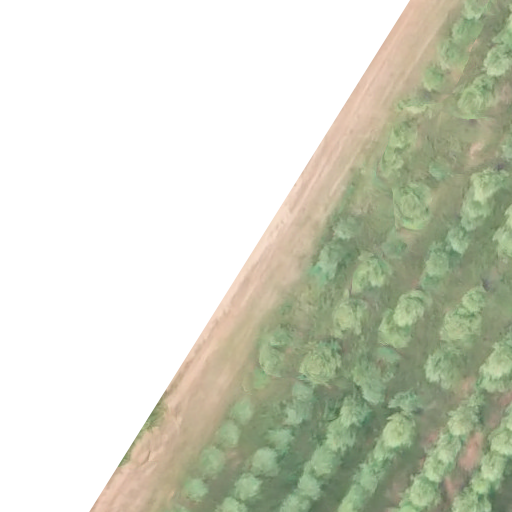eucalipto: (299, 340, 344, 388), (423, 348, 466, 392), (440, 309, 484, 351), (350, 256, 395, 296), (377, 311, 416, 350), (331, 299, 371, 337), (470, 167, 512, 200), (380, 415, 416, 449), (325, 418, 359, 453), (460, 192, 499, 222), (460, 81, 489, 121), (250, 445, 283, 480), (395, 293, 430, 326), (310, 446, 343, 481), (198, 444, 227, 483), (436, 39, 470, 72), (408, 476, 441, 508), (447, 406, 483, 435), (342, 397, 373, 429), (423, 245, 453, 278), (483, 44, 512, 77), (368, 440, 401, 469), (280, 397, 310, 428), (482, 347, 512, 378), (356, 464, 386, 494), (336, 485, 369, 512), (266, 423, 296, 452), (460, 286, 490, 315), (297, 468, 325, 499), (423, 457, 454, 485), (451, 492, 494, 512), (215, 421, 243, 450), (451, 18, 483, 43), (237, 473, 264, 502), (230, 396, 255, 427), (447, 224, 471, 256), (182, 477, 212, 502), (488, 428, 512, 458), (422, 65, 447, 92), (481, 458, 507, 483), (278, 493, 311, 512), (211, 496, 250, 512), (361, 381, 386, 405), (468, 474, 495, 495), (462, 1, 487, 20), (495, 15, 512, 41)
